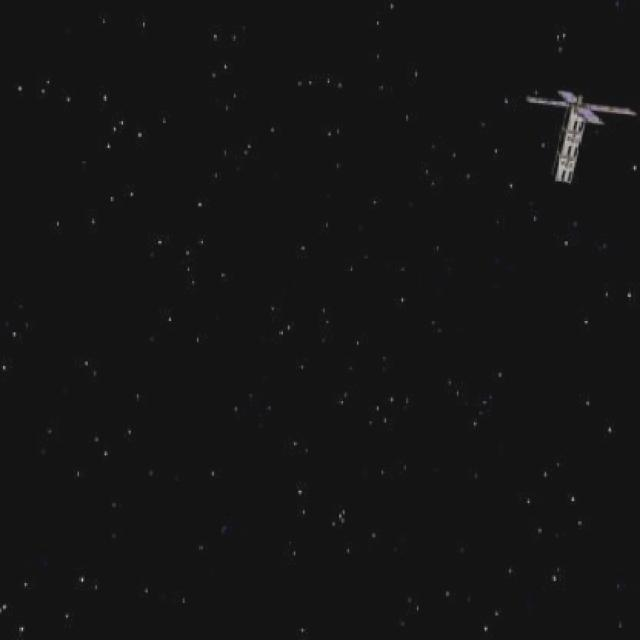medium_debris: (509, 75, 640, 187)
